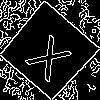X: (24, 26, 80, 83)
